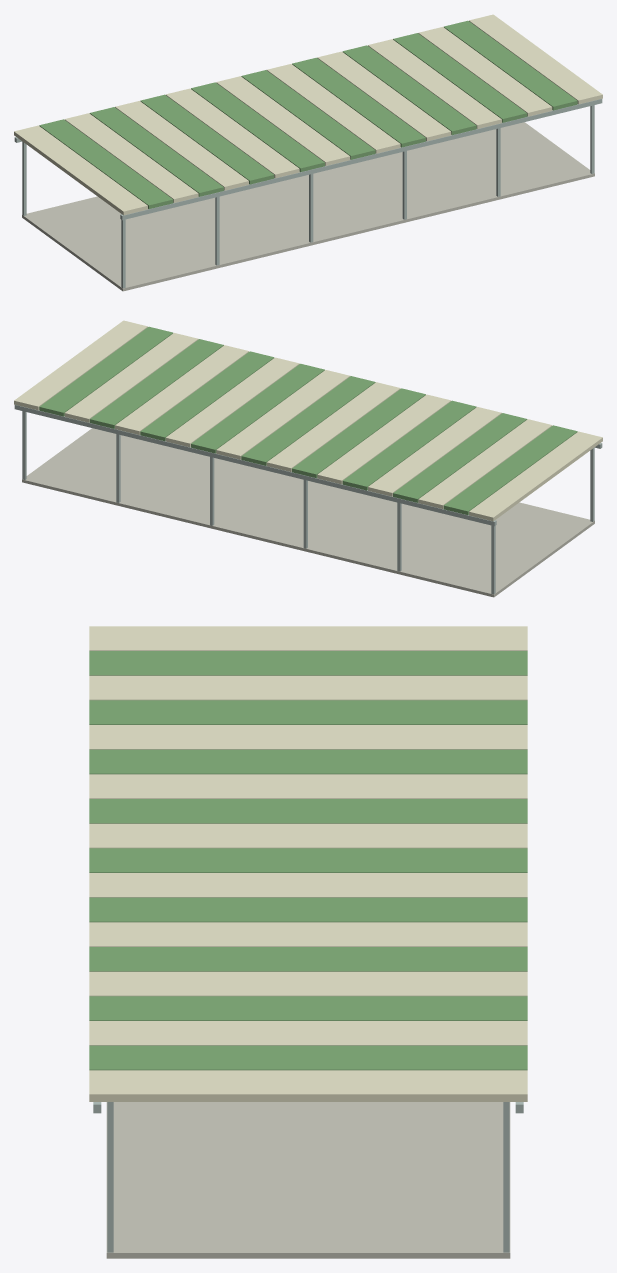
3 views of the same model, one above another, from view 1: azimuth 30°, elevation 25°; view 2: azimuth 150°, elevation 25°; view 3: azimuth 270°, elevation 25° (orthographic). The views are drawn at different scales.
Parts seen in each view (by area): view 1: eastlink__slab, eastlink__cream, eastlink__green, eastlink__metal; view 2: eastlink__slab, eastlink__cream, eastlink__green, eastlink__metal; view 3: eastlink__cream, eastlink__green, eastlink__slab, eastlink__metal.
Boxes of the visible parts, x1,y1,x2,y2 form: eastlink__slab: [22, 122, 594, 291]; eastlink__cream: [14, 14, 602, 215]; eastlink__green: [39, 20, 577, 208]; eastlink__metal: [14, 99, 602, 288]; eastlink__slab: [22, 428, 594, 597]; eastlink__cream: [14, 320, 602, 521]; eastlink__green: [39, 326, 577, 514]; eastlink__metal: [14, 405, 602, 594]; eastlink__cream: [89, 626, 527, 1101]; eastlink__green: [89, 651, 527, 1070]; eastlink__slab: [106, 1102, 510, 1258]; eastlink__metal: [93, 1102, 523, 1252].
Size of the model in its own units: 21 by 3.51 by 8.3.
